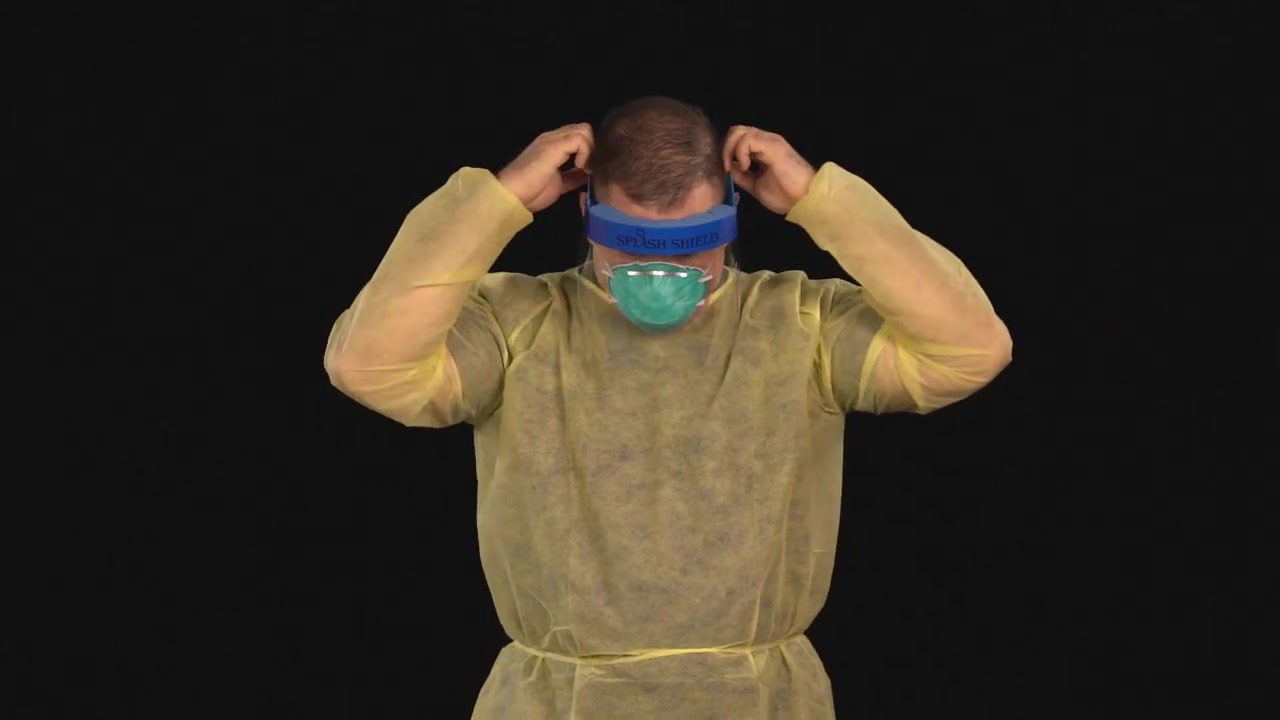Coverall: (370, 199, 925, 720)
Face_Shield: (578, 204, 746, 340)
with_mask: (606, 226, 709, 331)
